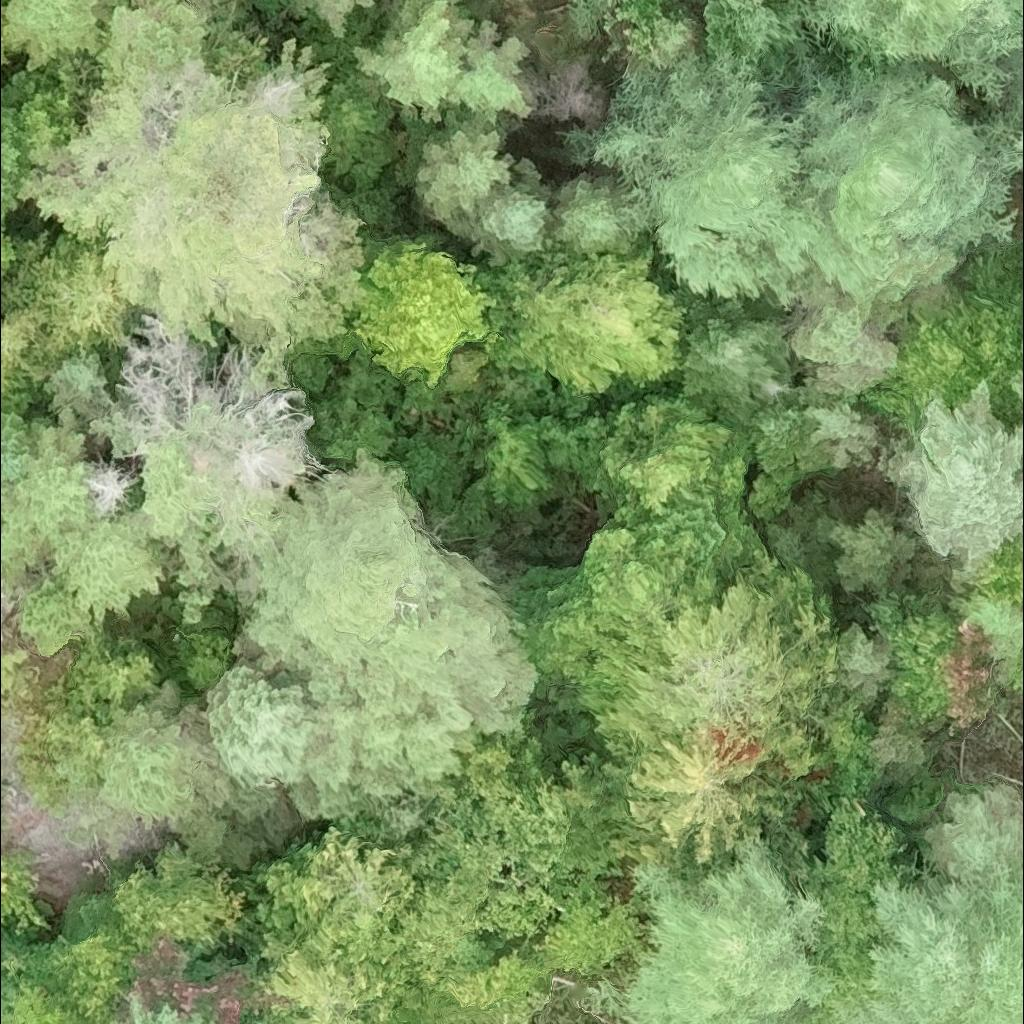crown: (22, 39, 366, 385), (567, 49, 822, 310), (292, 552, 538, 819), (577, 555, 845, 769), (790, 64, 1017, 309), (588, 826, 852, 1023), (248, 452, 441, 678), (833, 829, 1023, 1023), (602, 721, 812, 873), (412, 780, 591, 942), (514, 243, 685, 396), (902, 378, 1023, 572), (802, 0, 1023, 103), (551, 529, 691, 689), (264, 826, 414, 966), (875, 294, 1023, 435), (348, 243, 495, 382), (807, 796, 905, 993), (24, 642, 155, 788), (869, 594, 993, 732), (98, 708, 231, 828), (604, 399, 734, 520), (0, 410, 95, 568), (110, 844, 241, 955), (353, 0, 473, 119), (202, 664, 316, 789), (51, 507, 166, 628), (794, 269, 905, 393), (99, 0, 210, 94), (35, 247, 129, 357), (387, 891, 487, 993), (266, 955, 405, 1023), (534, 893, 650, 974), (40, 925, 133, 1023), (924, 781, 1023, 870), (418, 129, 510, 220), (445, 945, 550, 1023), (1, 0, 123, 66), (460, 20, 531, 131), (548, 177, 634, 260), (479, 182, 552, 254), (836, 624, 896, 700), (807, 404, 875, 466), (0, 305, 51, 384), (356, 984, 444, 1023), (81, 463, 137, 524), (980, 532, 1023, 602), (12, 982, 80, 1023), (308, 0, 375, 39), (868, 725, 928, 768), (132, 997, 205, 1023), (1009, 131, 1023, 173), (578, 0, 614, 14), (736, 0, 764, 11), (1014, 377, 1023, 404), (1019, 85, 1023, 103), (790, 0, 802, 4), (115, 1021, 130, 1023), (1021, 339, 1023, 354)
